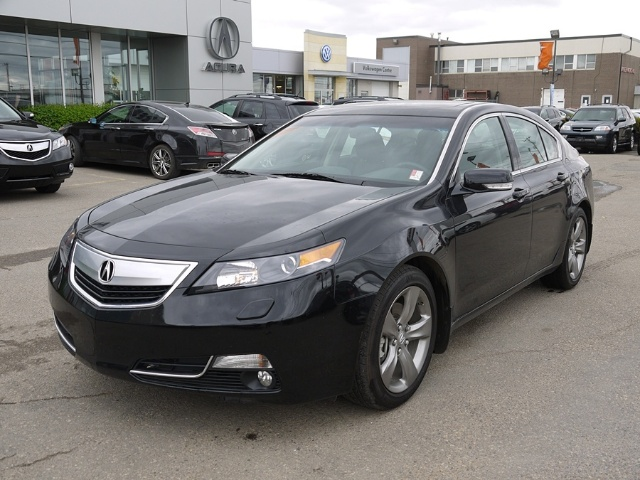Xe_hoi: (44, 96, 597, 415)
